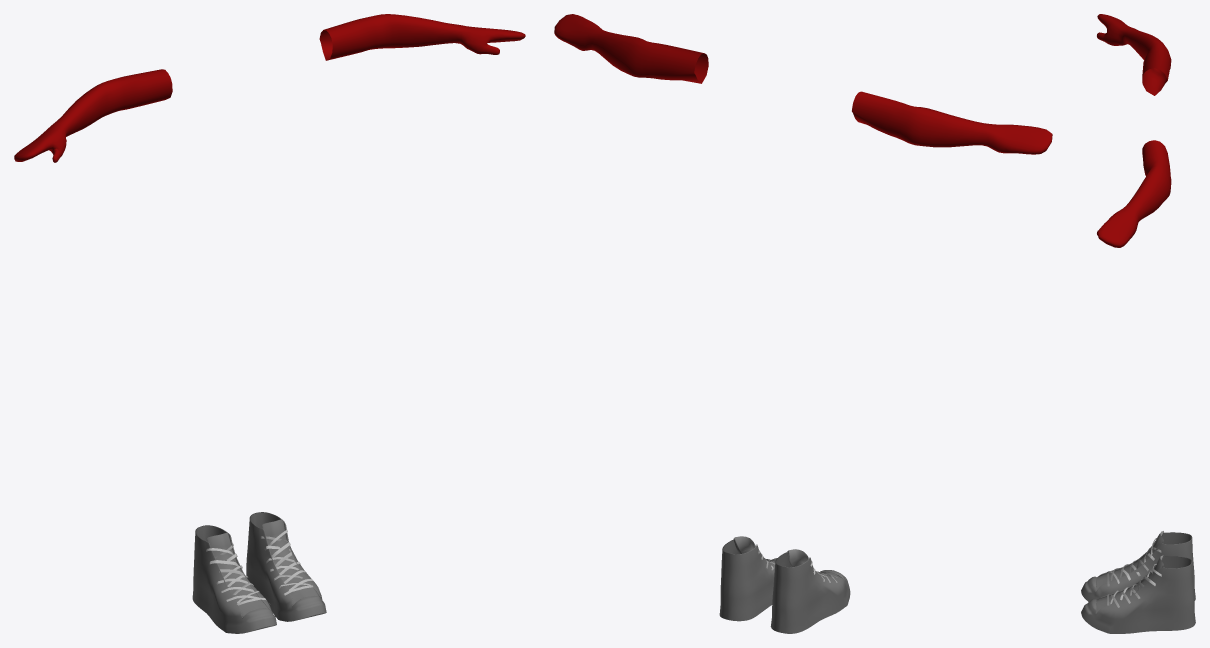
Rendered from Sloth2.fbx.
3 renders of one model, left to right at view 1: azimuth 30°, elevation 25°; view 2: azimuth 150°, elevation 25°; view 3: azimuth 270°, elevation 25°, orthographic. The views are drawn at different scales.
Parts seen in each view (by area): view 1: polySurface148; view 2: polySurface148; view 3: polySurface148.
Boxes of the visible parts, bbox=[...] form: polySurface148: bbox=[14, 14, 525, 633]; polySurface148: bbox=[554, 14, 1052, 633]; polySurface148: bbox=[1081, 14, 1195, 633].
Size of the model in its own units: 49.7 by 52.12 by 10.69.
